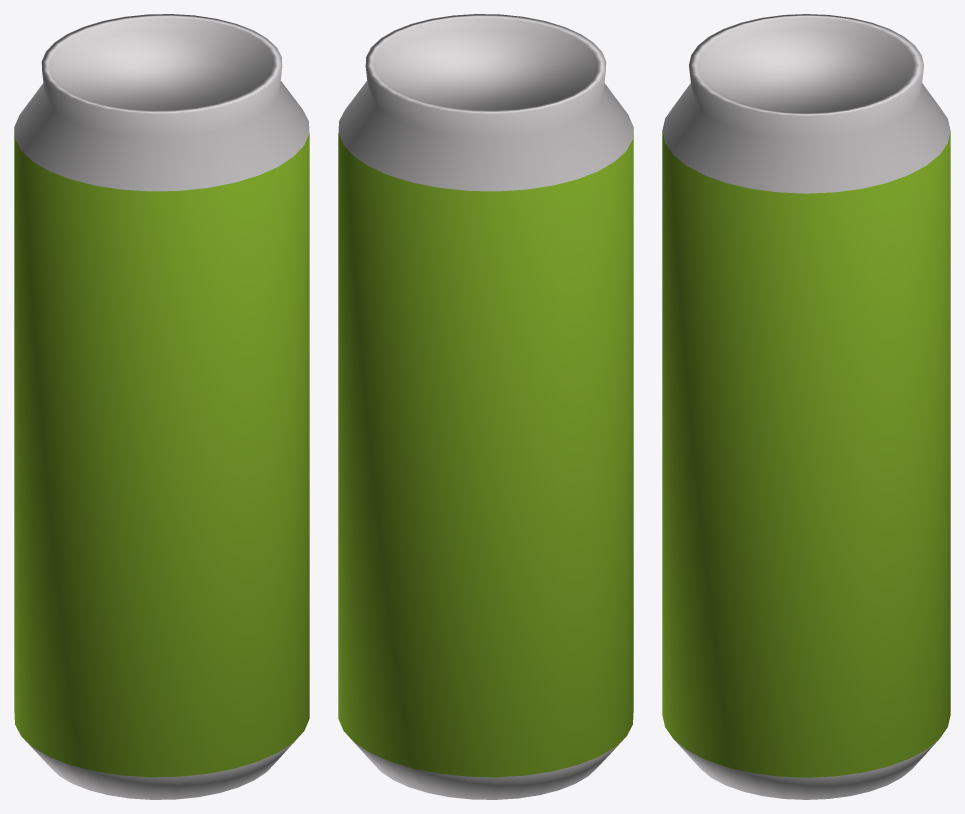
Rendered from tubis.fbx.
3 views of the same model, side by side, from view 1: azimuth 30°, elevation 25°; view 2: azimuth 150°, elevation 25°; view 3: azimuth 270°, elevation 25° (orthographic).
Parts seen in each view (by area): view 1: Beercan; view 2: Beercan; view 3: Beercan.
Boxes of the visible parts, box(x1,y1,x2,y2) form: Beercan: box(14, 14, 309, 799); Beercan: box(338, 14, 633, 799); Beercan: box(662, 14, 950, 799).
Size of the model in its own units: 166 by 422 by 161.
